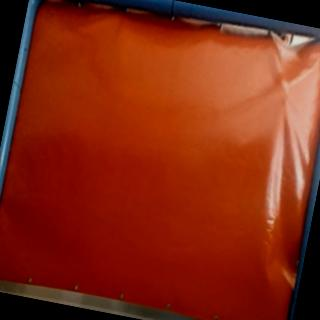Hit-hRxx: (280, 78, 294, 99)
